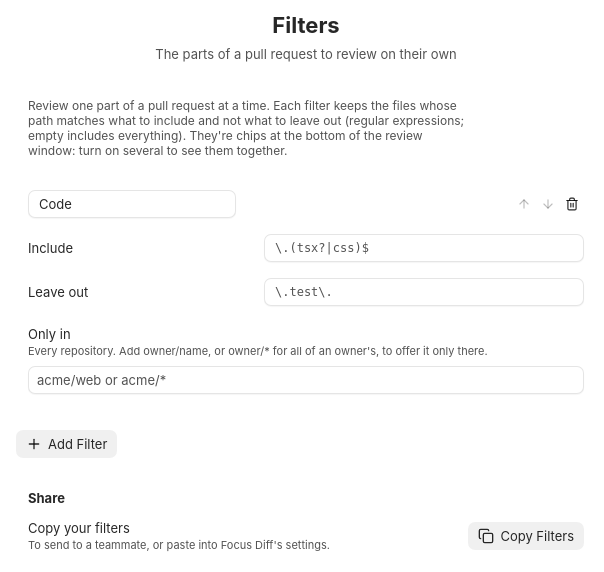
Filters › offers a filter only in the repositories added to it, refusing what isn't one
The image size is (604, 572).
Expected: the text "Every repository." is shown, [28,344,488,358]
In the field named "Repositories for Code": [306, 380] box [33,368,579,390], type "nonsense"
Then press Enter
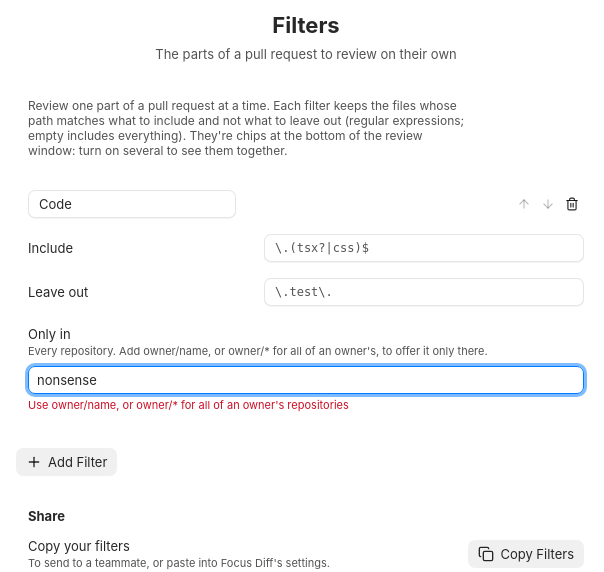
Result: the message reads "Use owner/name, or owner/* for all of an owner's repositories" at [28,398,349,412]
Replace the text in the field named "Repositories for Code" with "acme/web": [306, 380] box [33,368,579,390]
Then press Enter
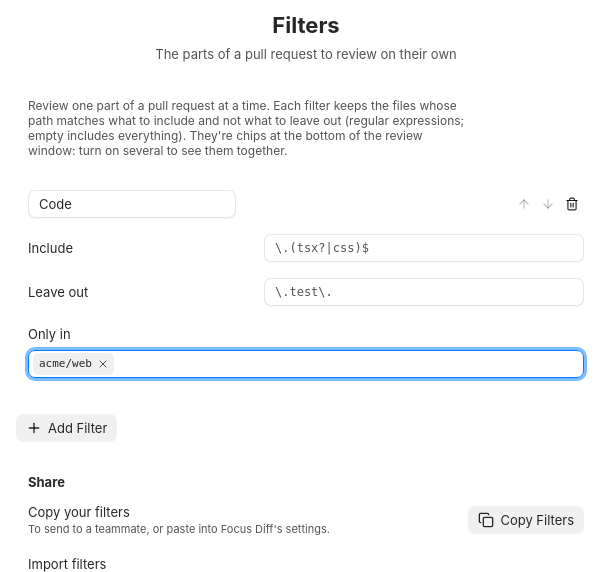
Result: the text "Every repository." is gone
